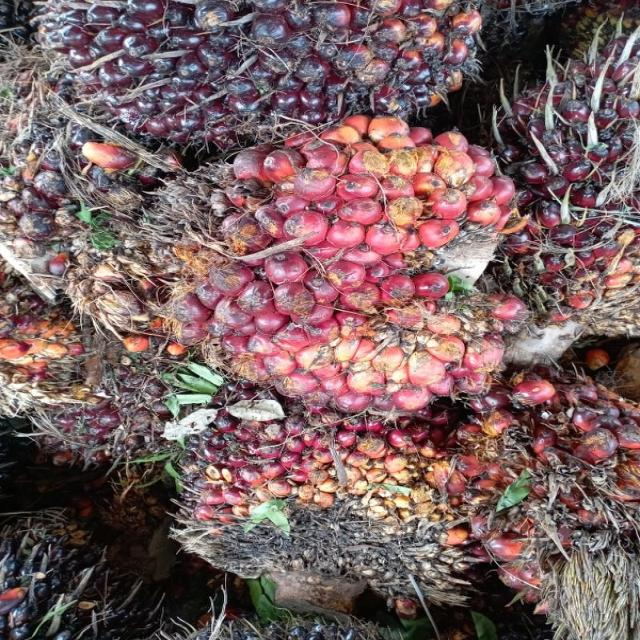fraksi 1: (93, 369, 582, 640)
fraksi 3: (99, 82, 600, 472)
